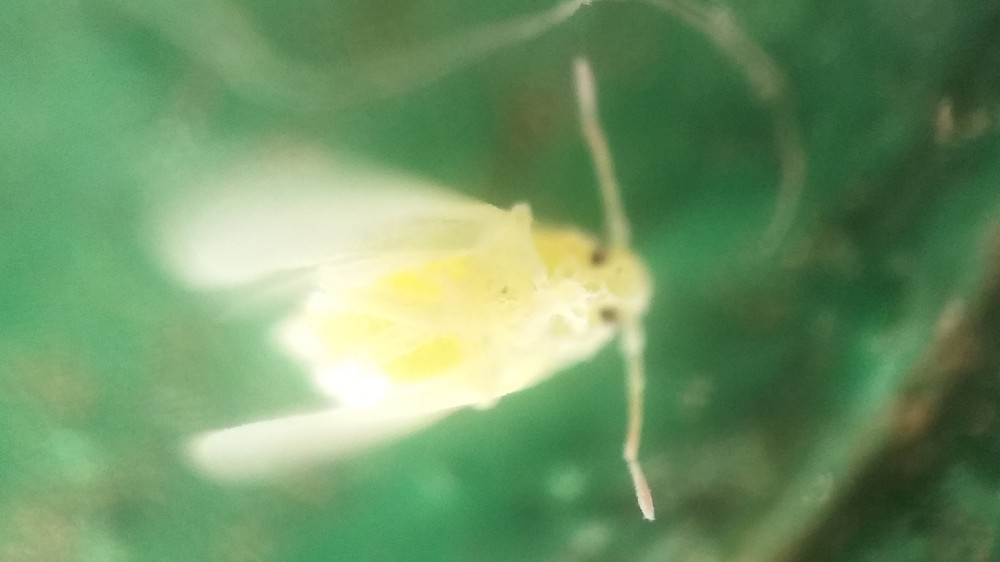Mosca Blanca: (128, 45, 682, 542)
